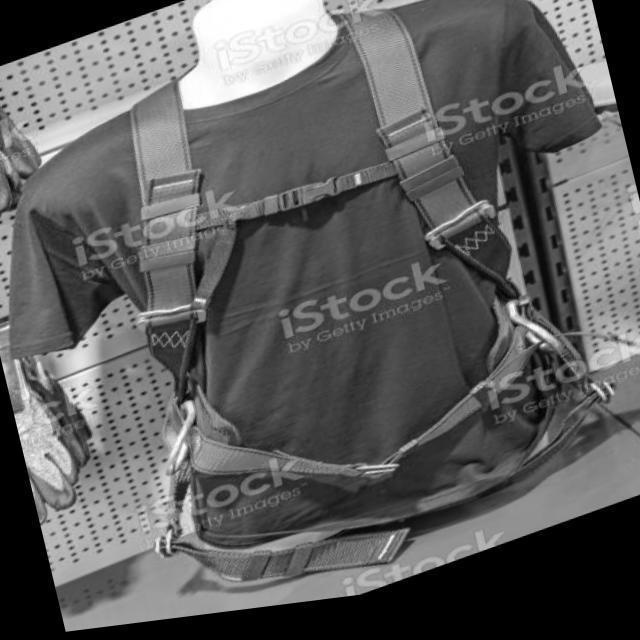Arnes_seguridad: (117, 39, 590, 573)
